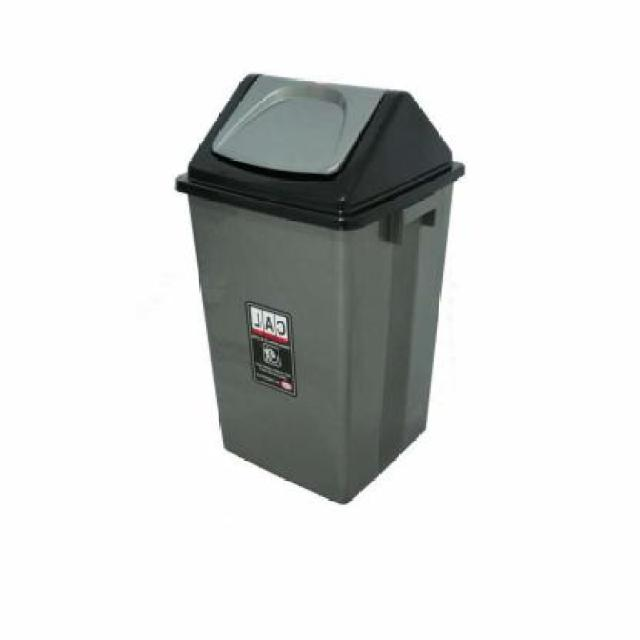garbage container: (167, 64, 468, 522)
